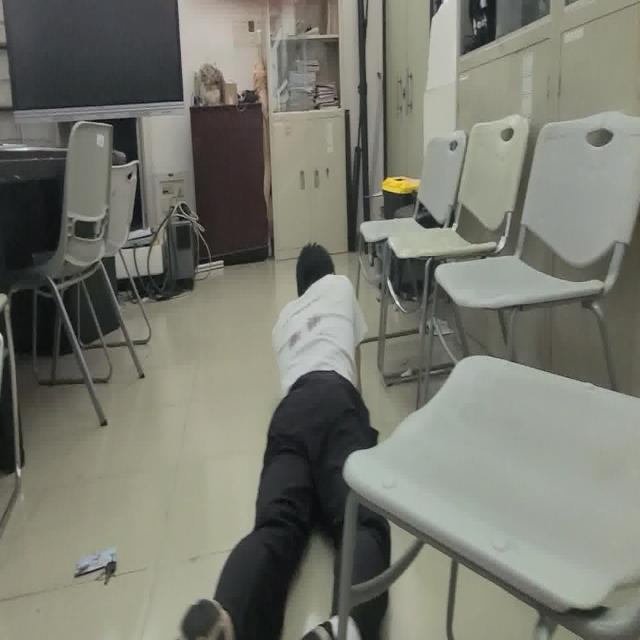fall: (178, 242, 391, 640)
